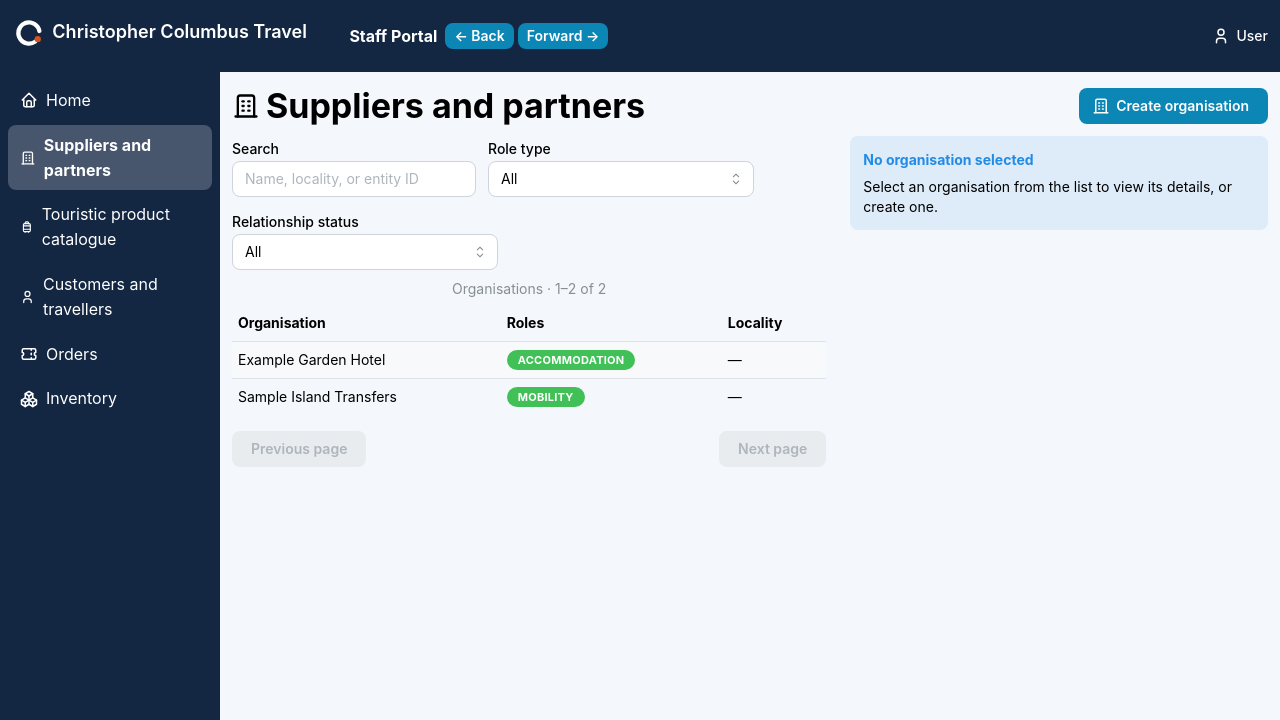
Test: OrganisationsRoute (VIEW-S-004, issue #30 phase 2) › filters rows client-side by role type
The width and height of the screenshot is (1280, 720).
Expected: the text "Example Garden Hotel" is shown, [232, 342, 501, 378]
Expected: the text "Sample Island Transfers" is shown, [232, 378, 501, 414]
Click the field labelled "Role type": (621, 179) [488, 161, 754, 197]
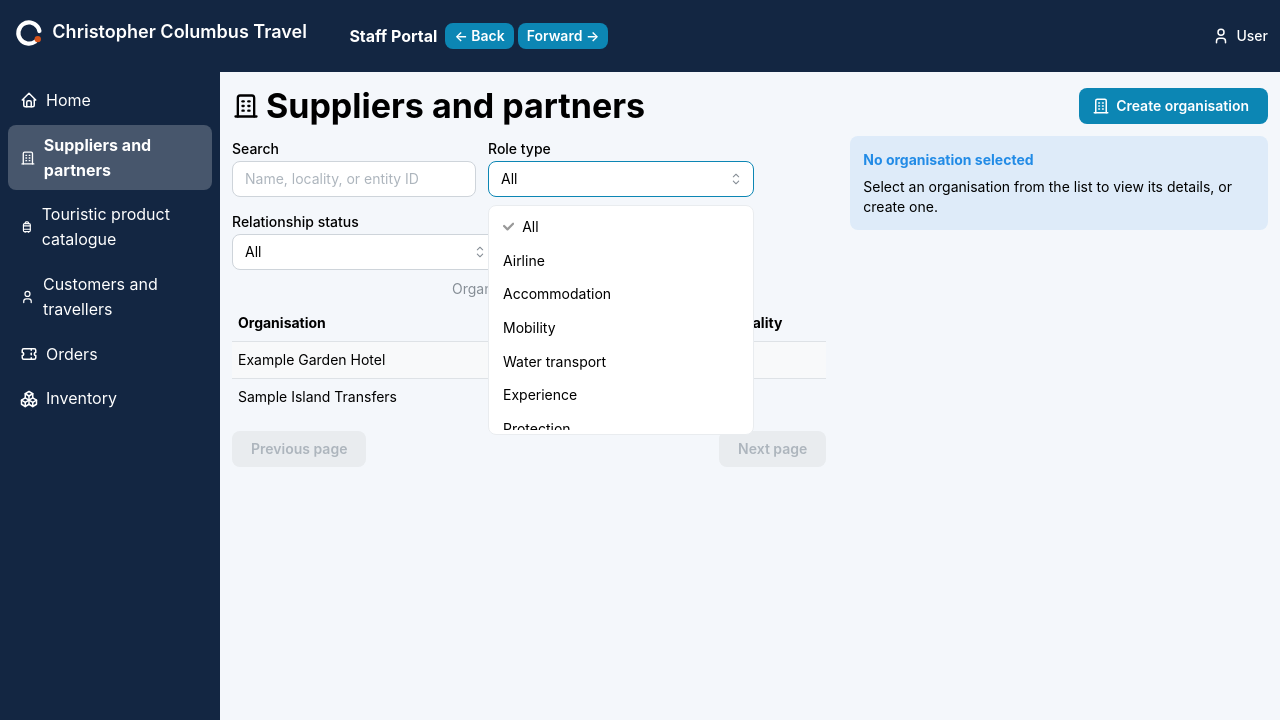
Click the option "Mobility": (529, 328) [503, 319, 556, 336]
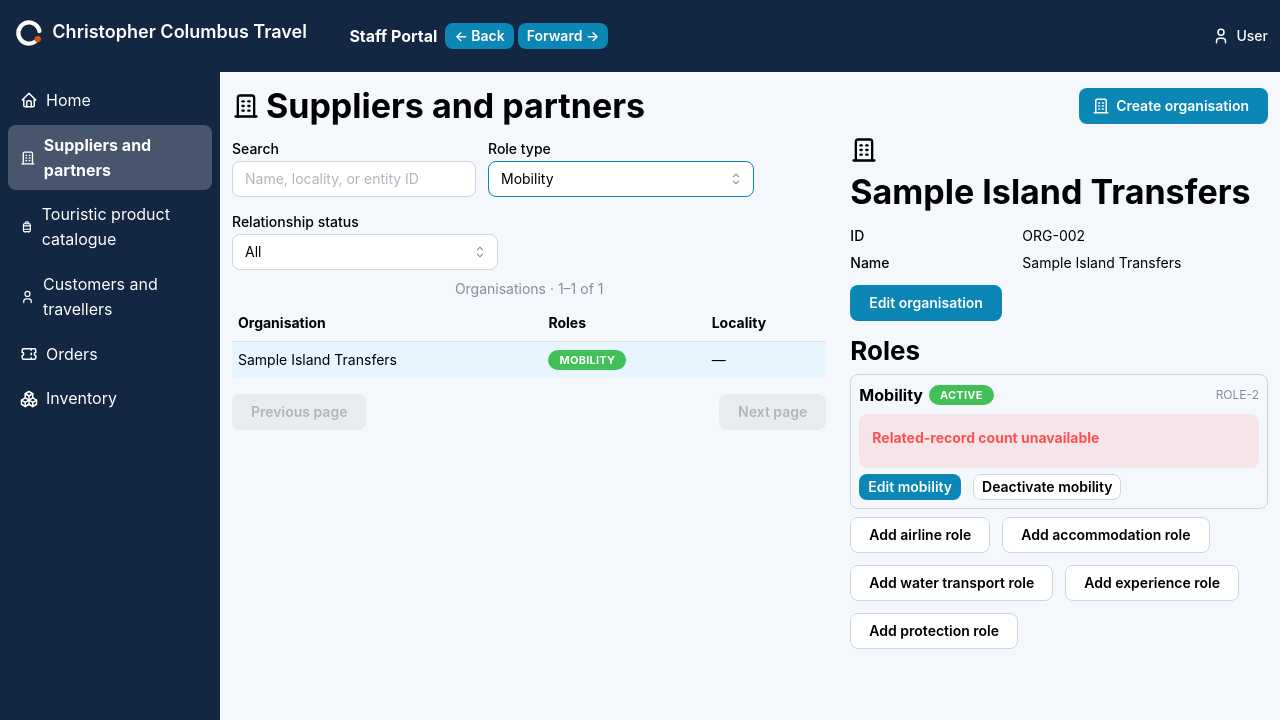
Expected: the text "Sample Island Transfers" is shown, [232, 342, 542, 378]
Expected: the text "Example Garden Hotel" is gone
